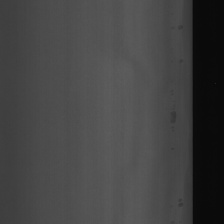oil_spot: (176, 185, 187, 213), (166, 107, 180, 128), (174, 20, 184, 32), (177, 52, 183, 64)
